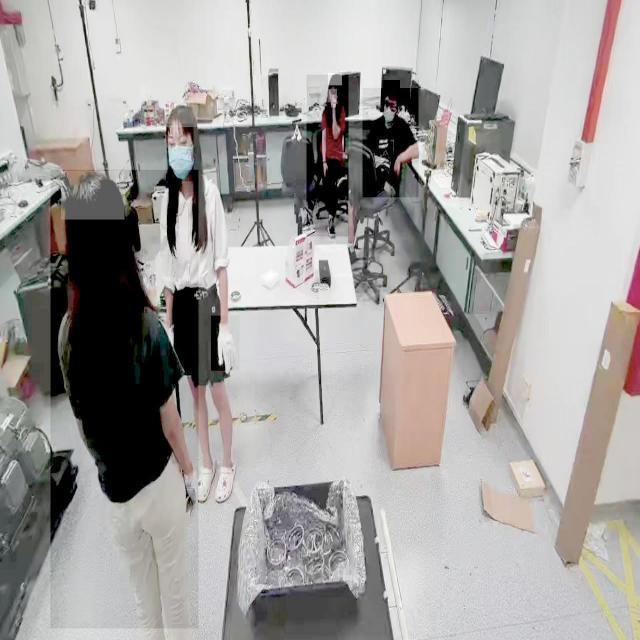gloves: (211, 316, 240, 372)
